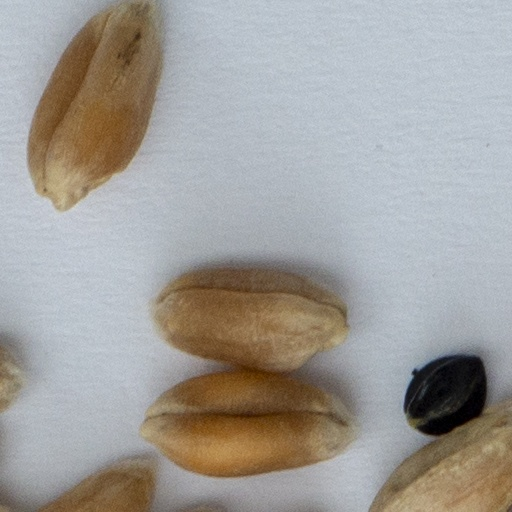Fallopia-Convolvulus-poly: (405, 358, 488, 434)
